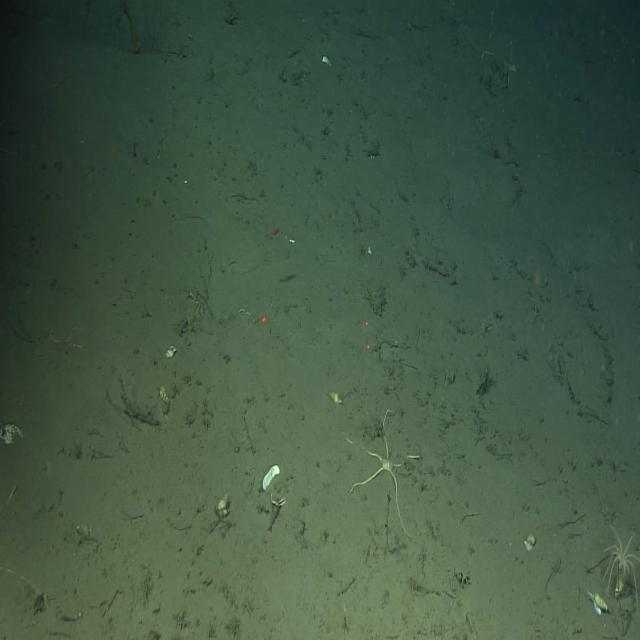Brittle Star: (341, 404, 427, 548)
Not Brittle Star: (590, 516, 640, 613), (586, 587, 611, 618), (326, 387, 344, 408), (523, 530, 538, 554), (163, 342, 178, 362)
